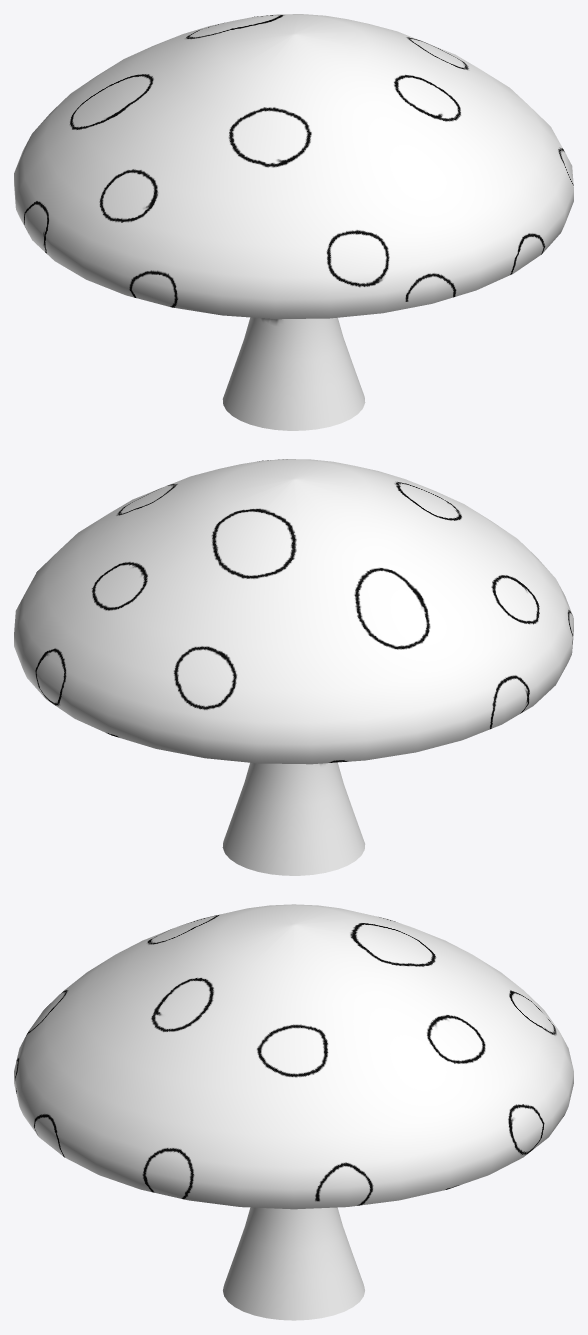
Rendered from mushroom2.obj.
The picture shows the model from 3 angles, top to bottom: view 1: azimuth 30°, elevation 25°; view 2: azimuth 150°, elevation 25°; view 3: azimuth 270°, elevation 25°; orthographic projection.
Parts seen in each view (by area): view 1: Cylinder.005; view 2: Cylinder.005; view 3: Cylinder.005.
Boxes of the visible parts, bbox=[...] form: Cylinder.005: bbox=[14, 14, 573, 430]; Cylinder.005: bbox=[14, 459, 573, 875]; Cylinder.005: bbox=[14, 904, 573, 1320].
Bounding box in the file's own units: 0.4114 × 0.2963 × 0.4114.
